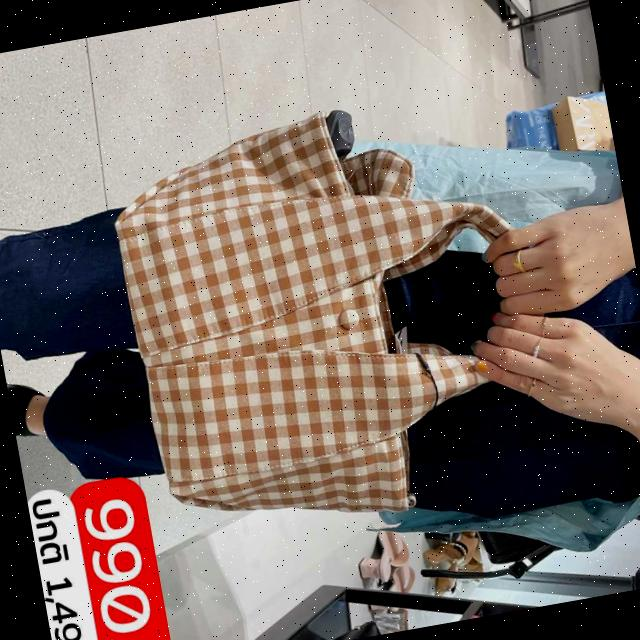handbag: (89, 80, 488, 557)
